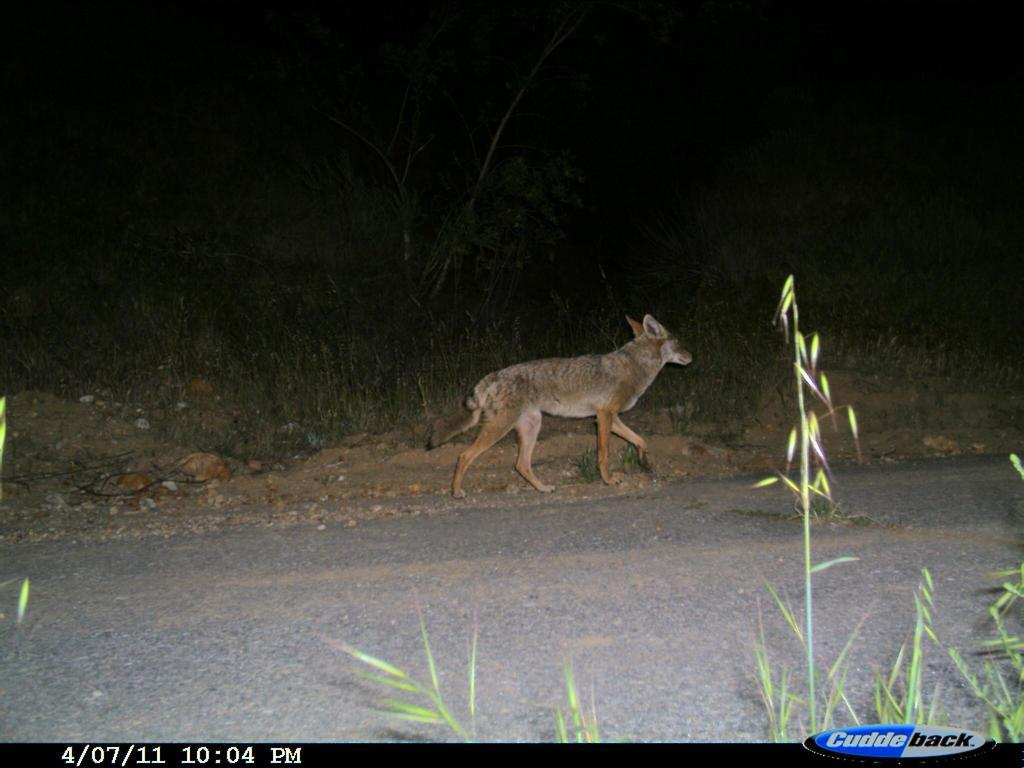coyote: (422, 312, 697, 500)
